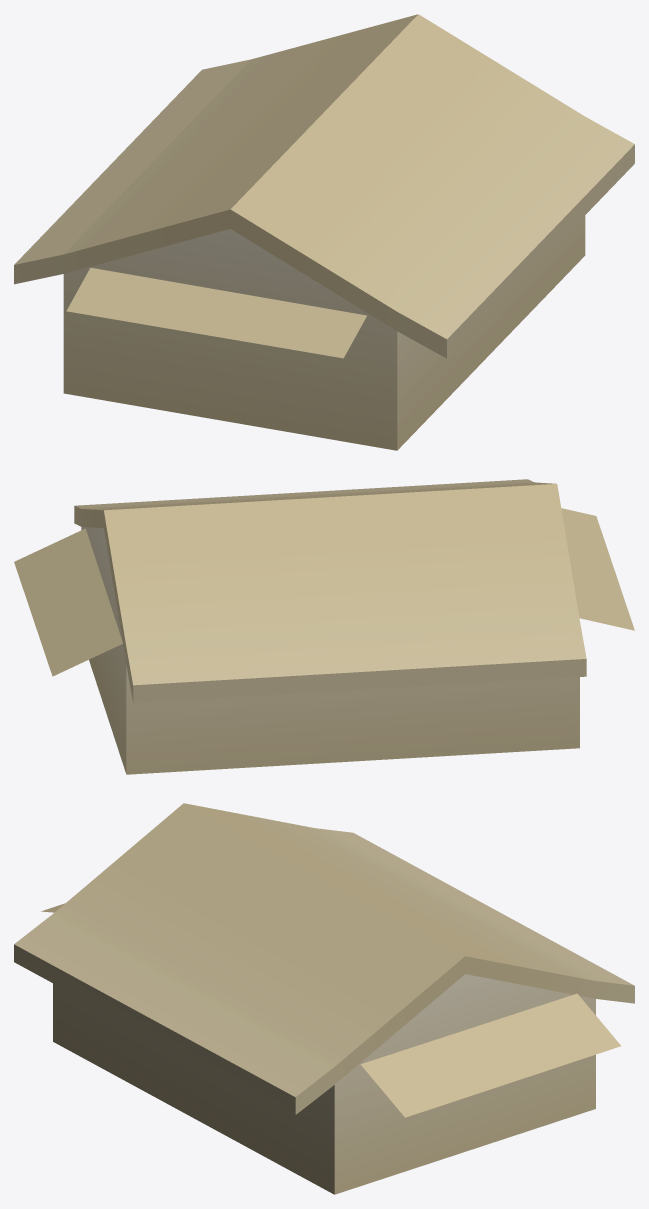
The model's file is SM_House_Farm_01.fbx.
3 views of the same model, one above another, from view 1: azimuth 30°, elevation 25°; view 2: azimuth 150°, elevation 25°; view 3: azimuth 270°, elevation 25° (orthographic). The views are drawn at different scales.
Visible parts, largest first — view 1: maison; view 2: maison; view 3: maison.
Part boxes in pixels (<box>): maison: <box>14,14,634,450</box>; maison: <box>14,479,634,774</box>; maison: <box>14,803,634,1194</box>.
Size of the model in its own units: 966 by 330 by 948.
